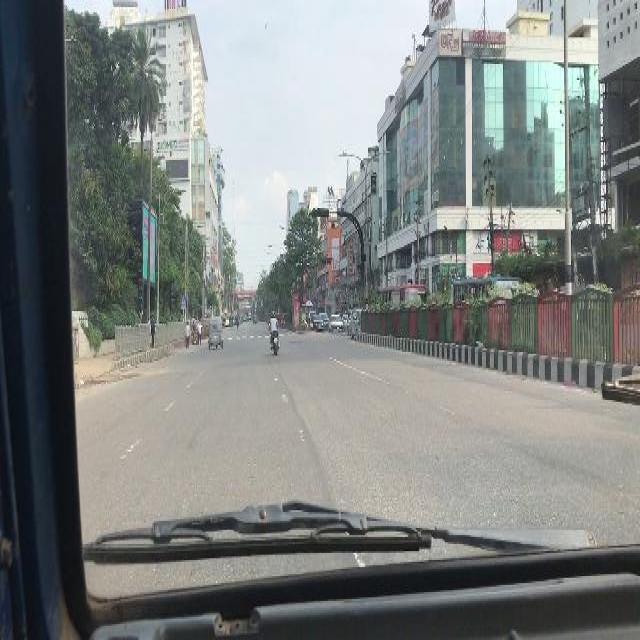bike: (270, 324, 281, 354)
vehicle: (453, 275, 525, 307), (381, 286, 428, 306), (208, 317, 224, 347), (349, 308, 363, 338), (328, 314, 343, 332), (311, 312, 323, 330), (229, 315, 234, 327), (254, 313, 259, 322)
